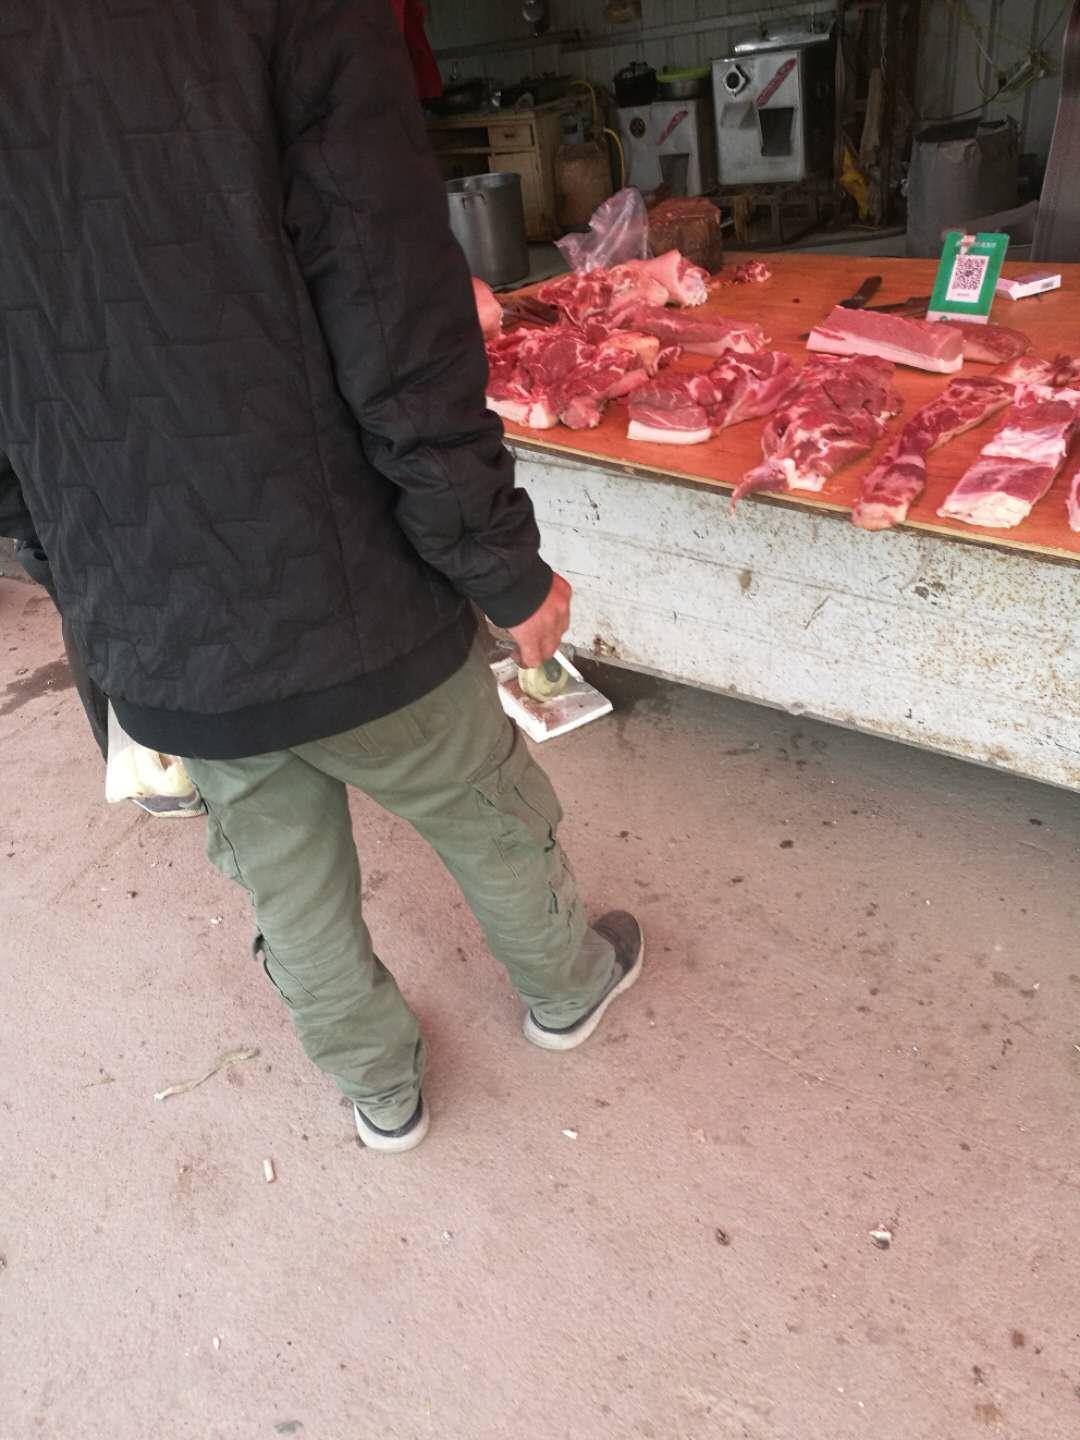Cigarette: (552, 645, 588, 683)
